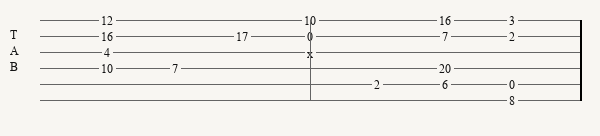0: (307, 30, 317, 43), (509, 78, 519, 91)
10: (101, 62, 117, 75), (304, 14, 320, 27)
12: (101, 14, 117, 27)
16: (101, 30, 117, 43), (439, 14, 455, 27)
17: (236, 30, 252, 43)
2: (374, 78, 384, 91), (509, 30, 519, 43)
20: (439, 62, 455, 75)
3: (509, 14, 519, 27)
4: (104, 46, 114, 59)
6: (442, 78, 452, 91)
7: (172, 62, 182, 75), (442, 30, 452, 43)
8: (509, 94, 519, 107)
x: (307, 47, 317, 57)
